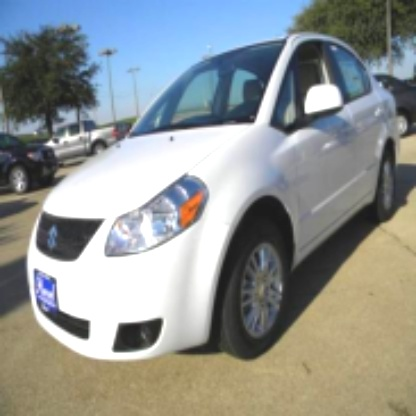Vehicle: (27, 33, 400, 361)
